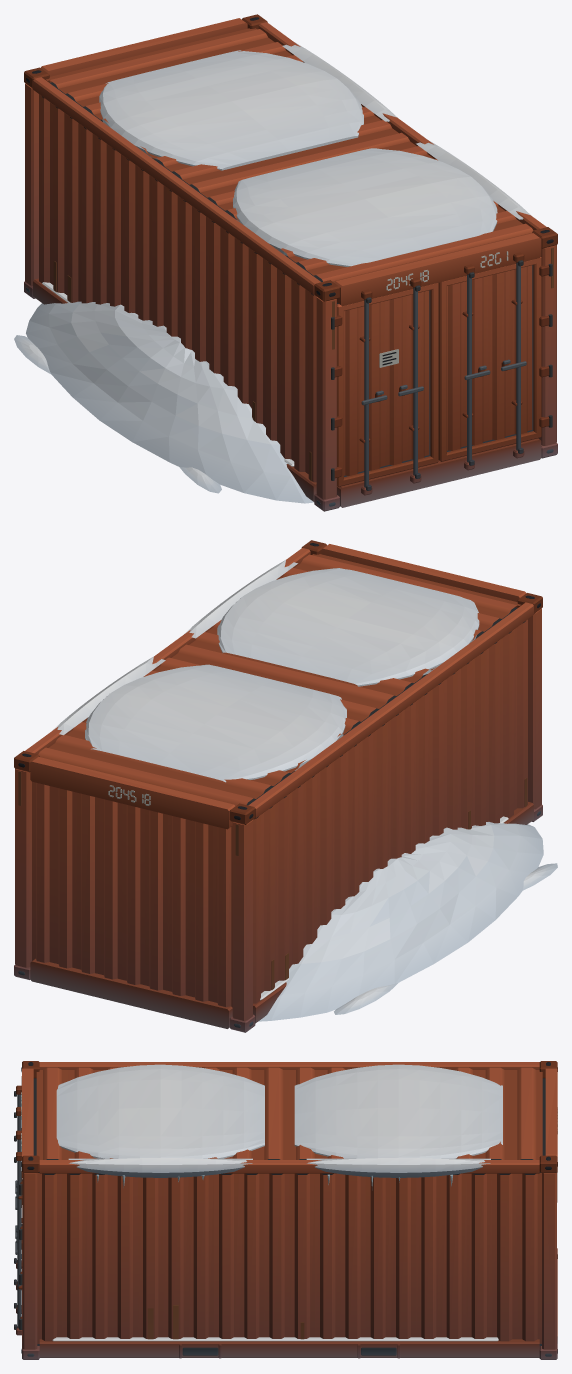
The model's file is arctic-storage-container.glb.
3 views of the same model, one above another, from view 1: azimuth 30°, elevation 25°; view 2: azimuth 150°, elevation 25°; view 3: azimuth 270°, elevation 25° (orthographic). The views are drawn at different scales.
Parts seen in each view (by area): view 1: arctic_storage_container; view 2: arctic_storage_container; view 3: arctic_storage_container.
Boxes of the visible parts, x1,y1,x2,y2 form: arctic_storage_container: (14,14,557,511); arctic_storage_container: (14,540,557,1032); arctic_storage_container: (14,1061,557,1359).
Size of the model in its own units: 3.26 by 2.25 by 5.48.
